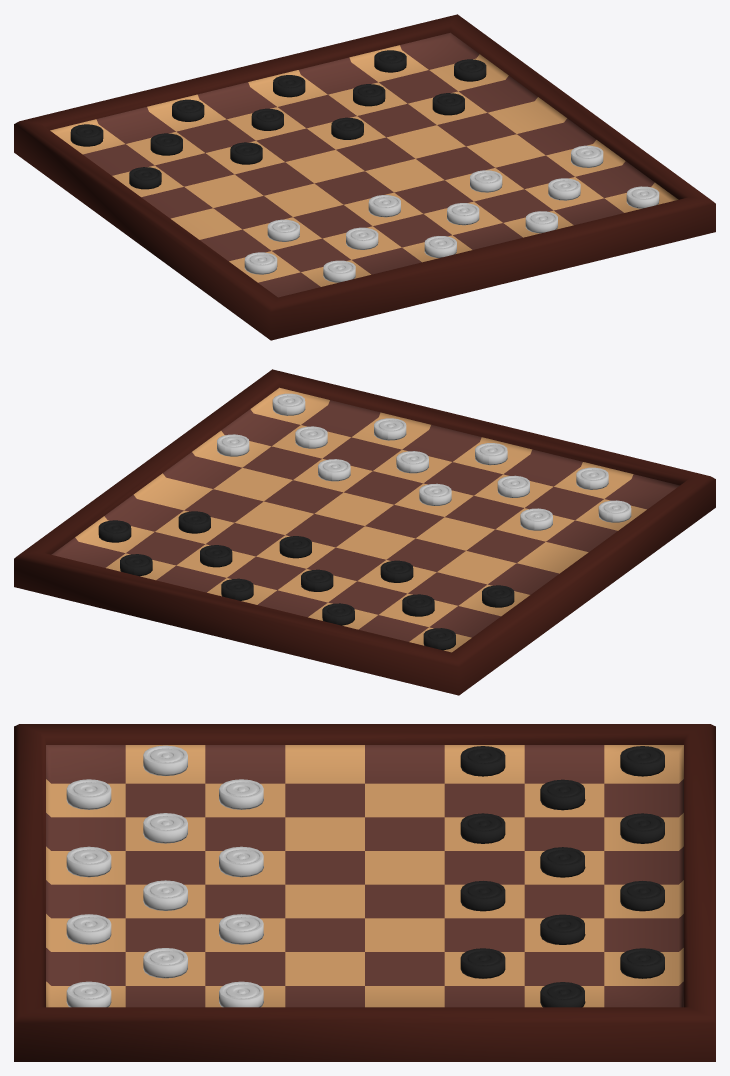
Rendered from Checkers.fbx.
The picture shows the model from 3 angles, top to bottom: view 1: azimuth 30°, elevation 25°; view 2: azimuth 150°, elevation 25°; view 3: azimuth 270°, elevation 25°; orthographic projection. The views are drawn at different scales.
Visible parts, largest first — view 1: Board, WhiteChecker.007, BlackChecker.003, BlackChecker.010, BlackChecker, WhiteChecker.006, BlackChecker.007, BlackChecker.008, WhiteChecker.004, BlackChecker.004, BlackChecker.005, BlackChecker.011 (+13 smaller); view 2: Board, WhiteChecker.002, BlackChecker.004, WhiteChecker.007, BlackChecker.010, WhiteChecker.006, BlackChecker.007, WhiteChecker.009, WhiteChecker.010, BlackChecker.008, WhiteChecker.011, WhiteChecker.003 (+13 smaller); view 3: Board, WhiteChecker.003, WhiteChecker.001, BlackChecker.008, BlackChecker.010, BlackChecker.011, WhiteChecker, BlackChecker.009, WhiteChecker.009, WhiteChecker.011, BlackChecker, WhiteChecker.004 (+13 smaller).
Part boxes in pixels (box(x1,y1,x2,y2)): Board: box(14, 14, 715, 340); WhiteChecker.007: box(244, 252, 277, 274); BlackChecker.003: box(70, 124, 103, 146); BlackChecker.010: box(230, 142, 262, 164); BlackChecker: box(374, 50, 406, 72); WhiteChecker.006: box(548, 178, 580, 200); BlackChecker.007: box(150, 133, 182, 155); BlackChecker.008: box(432, 93, 464, 115); WhiteChecker.004: box(346, 227, 378, 249); BlackChecker.004: box(454, 59, 486, 81); BlackChecker.005: box(353, 84, 385, 106); BlackChecker.011: box(129, 167, 161, 189); Board: box(14, 369, 715, 695); WhiteChecker.002: box(272, 393, 305, 415); BlackChecker.004: box(98, 520, 131, 542); WhiteChecker.007: box(598, 500, 631, 522); BlackChecker.010: box(380, 560, 413, 582); WhiteChecker.006: box(295, 426, 327, 448); BlackChecker.007: box(402, 594, 434, 616); WhiteChecker.009: box(318, 459, 350, 481); WhiteChecker.010: box(217, 434, 249, 456); BlackChecker.008: box(178, 511, 210, 533); WhiteChecker.011: box(520, 508, 552, 530); WhiteChecker.003: box(576, 467, 608, 489); Board: box(14, 724, 715, 1061); WhiteChecker.003: box(66, 779, 111, 809); WhiteChecker.001: box(66, 914, 111, 944); BlackChecker.008: box(460, 948, 505, 978); BlackChecker.010: box(460, 813, 505, 843); BlackChecker.011: box(460, 746, 505, 776); WhiteChecker: box(66, 846, 111, 877); BlackChecker.009: box(460, 881, 505, 911); WhiteChecker.009: box(219, 914, 263, 944); WhiteChecker.011: box(219, 779, 263, 809); BlackChecker: box(620, 948, 664, 978); WhiteChecker.004: box(143, 813, 187, 843).
Bounding box in the file's own units: 220 × 15.05 × 220.
3 materials, 3 textured.
